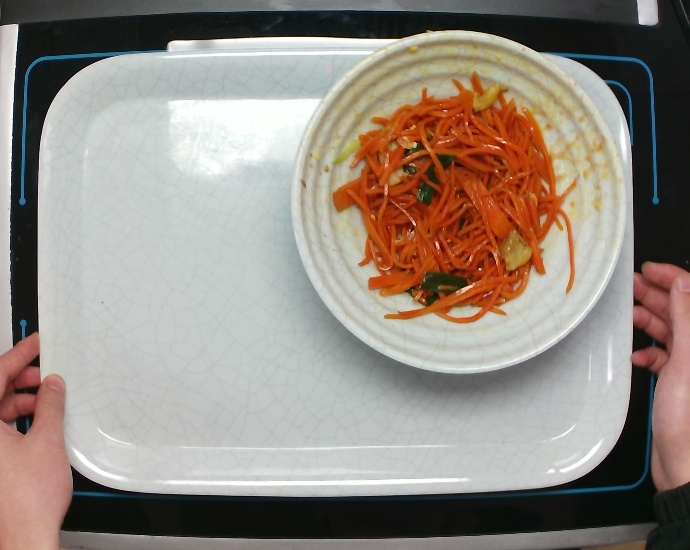JYsf-Da_Tang_Wan: (284, 28, 626, 378)
